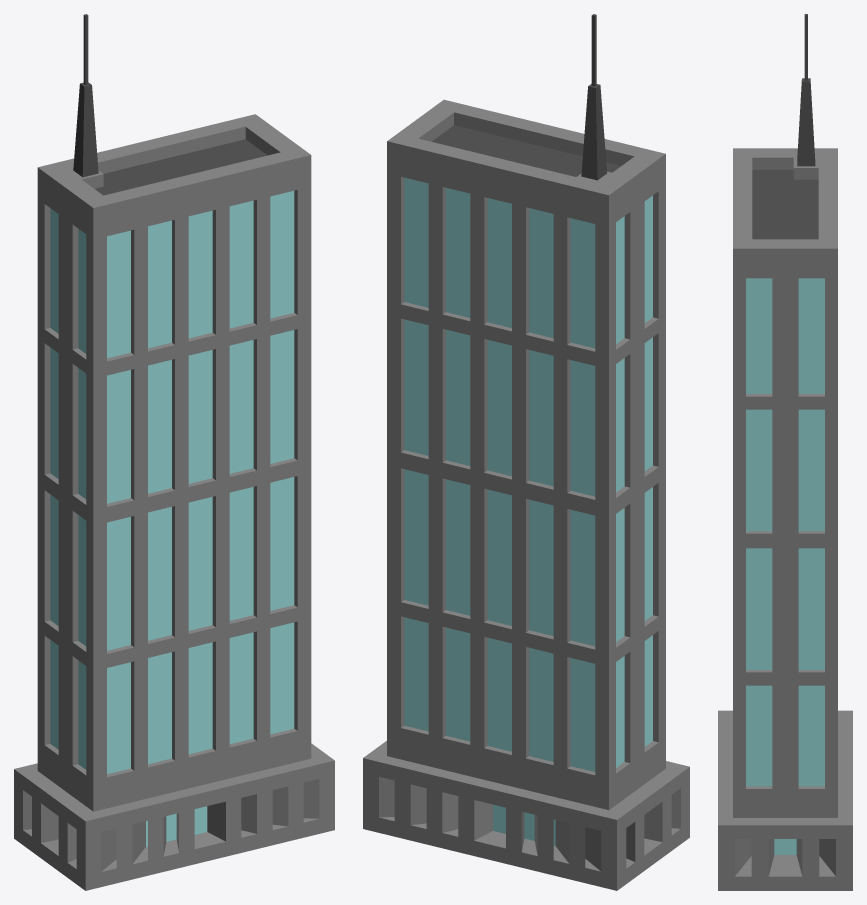
The model's file is SkyScraper 2.fbx.
The picture shows the model from 3 angles, left to right: view 1: azimuth 30°, elevation 25°; view 2: azimuth 150°, elevation 25°; view 3: azimuth 270°, elevation 25°; orthographic projection. The views are drawn at different scales.
Visible parts, largest first — view 1: pCube39; view 2: pCube39; view 3: pCube39.
Part boxes in pixels (x1,y1,x2,y2): pCube39: (14, 14, 334, 890); pCube39: (363, 14, 689, 890); pCube39: (718, 14, 852, 890).
Bounding box in the file's own units: 13 × 41.36 × 6.46.
